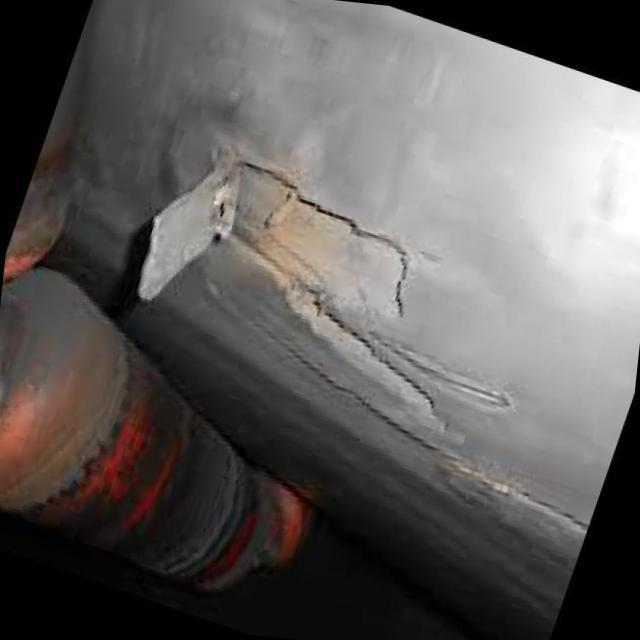Tear: (126, 146, 427, 384)
